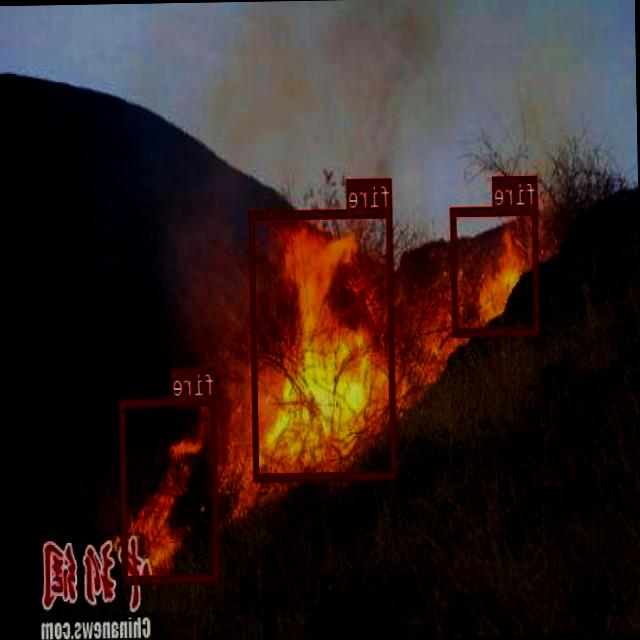fire: (250, 208, 397, 481), (120, 395, 220, 582), (452, 204, 540, 334)
